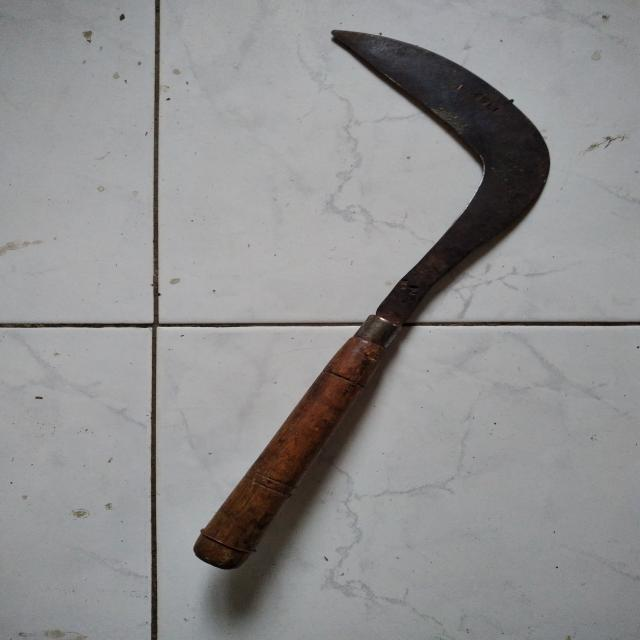Celurit: (194, 27, 555, 567)
